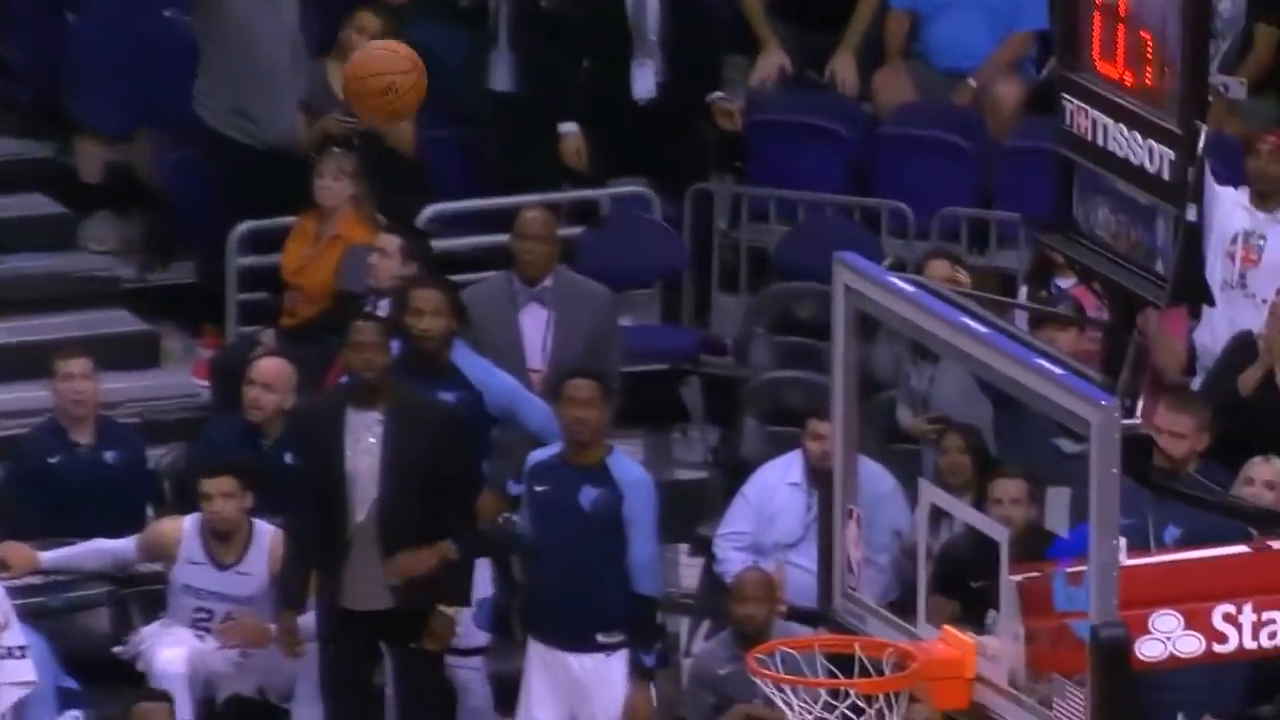ball: (335, 39, 430, 127)
